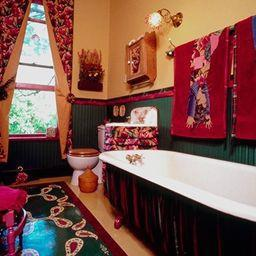Sanitario: (69, 125, 102, 187)
Ventana: (1, 6, 65, 139)
